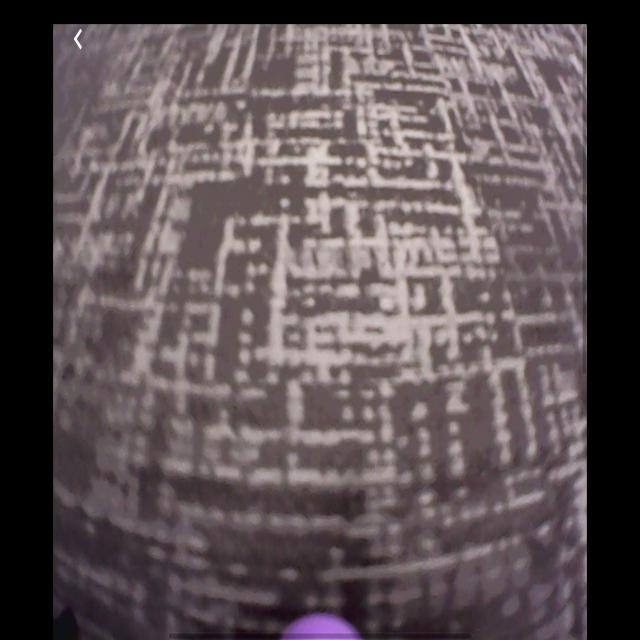ball: (280, 614, 362, 640)
